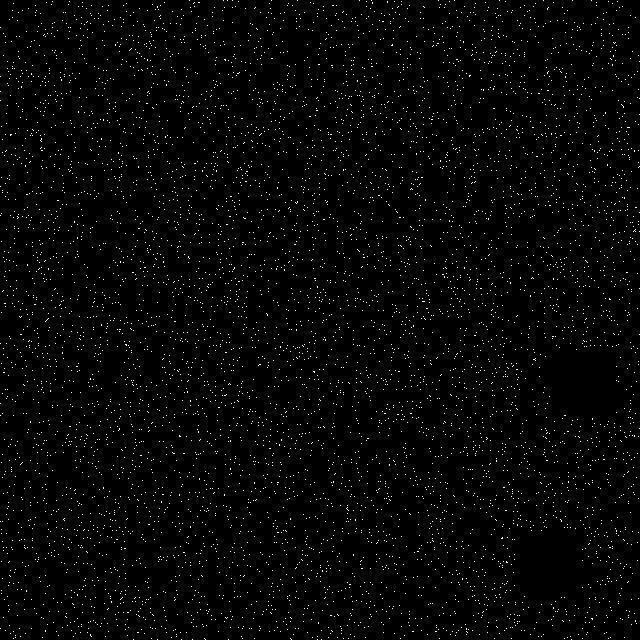egg: (122, 284, 370, 452)
